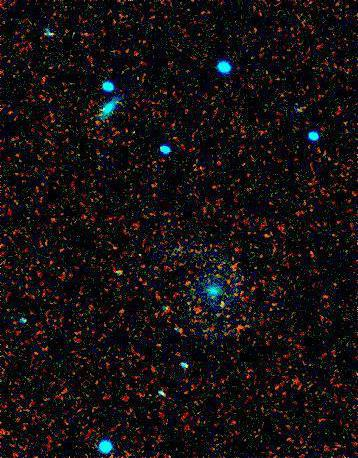star: (207, 288, 237, 318)
